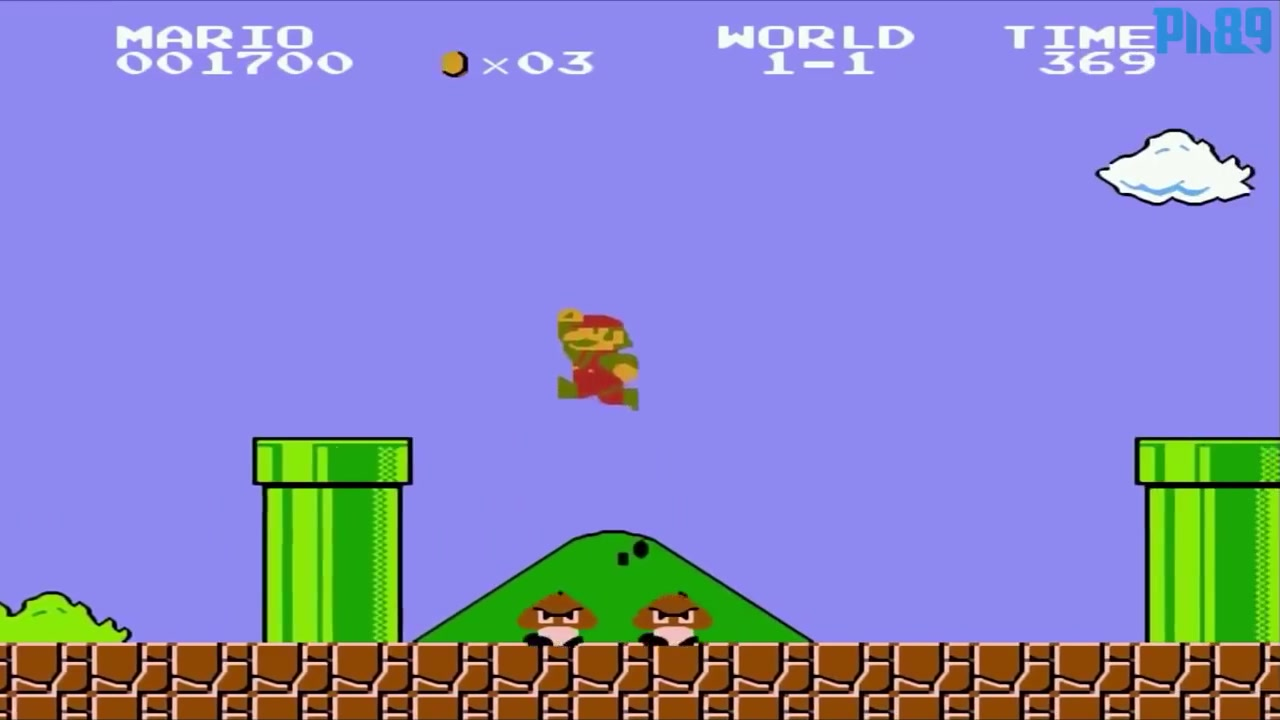mario: (540, 300, 645, 411)
